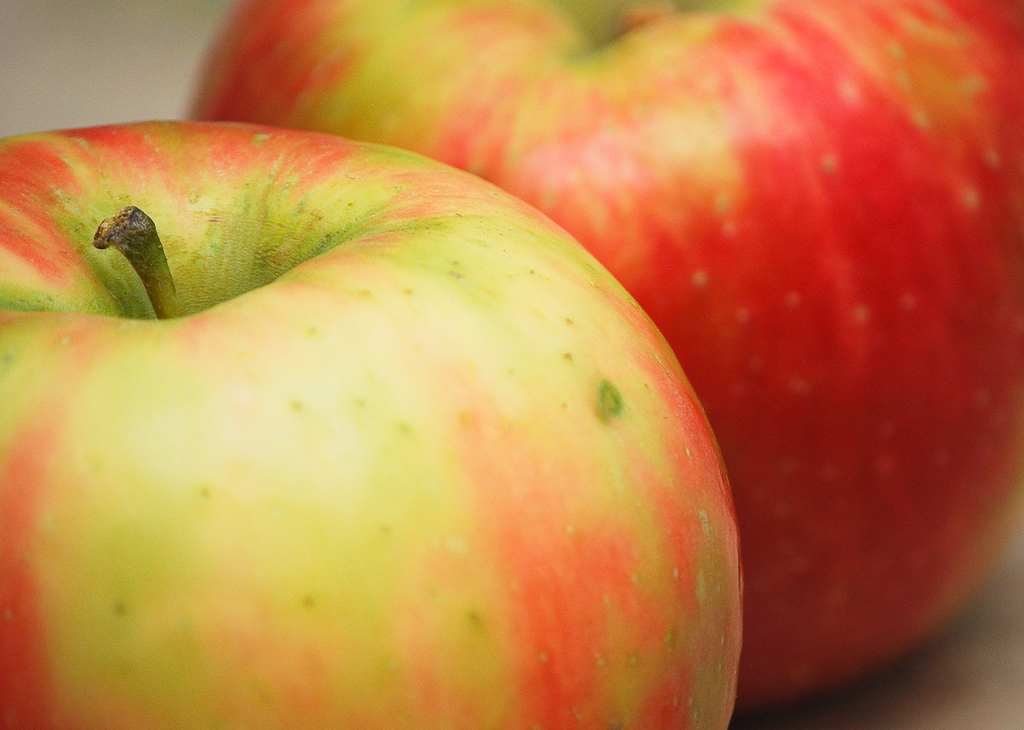Apple: (182, 0, 1023, 704), (0, 120, 744, 729)
